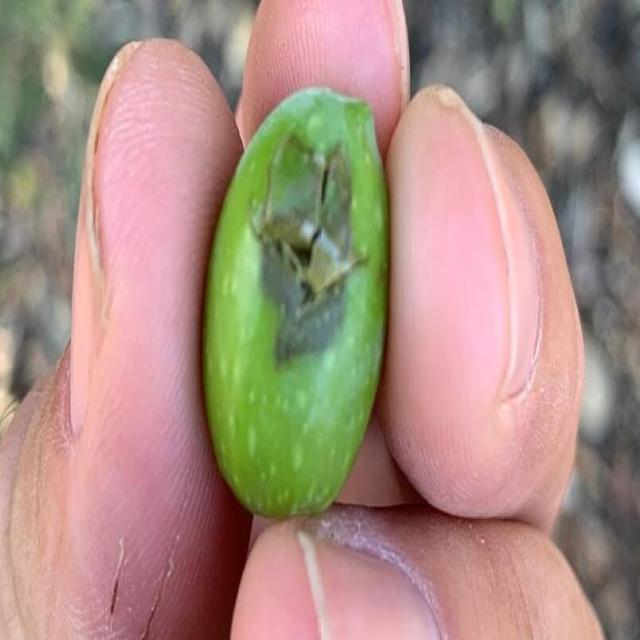Olive Fruit Fly: (203, 88, 388, 514)
